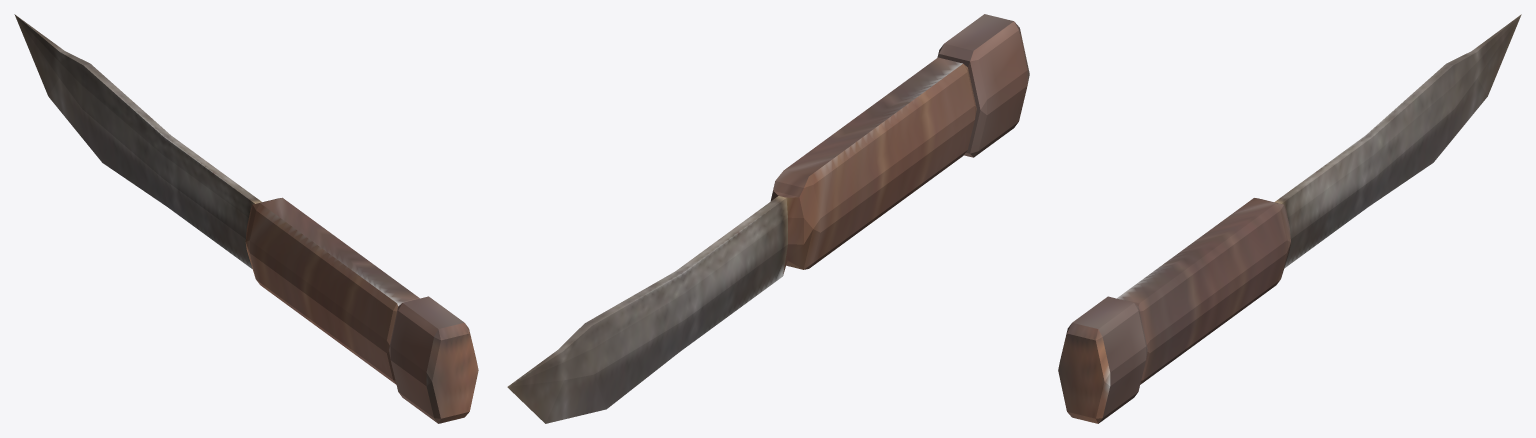
File: knife.glb
3 renders of one model, left to right at view 1: azimuth 30°, elevation 25°; view 2: azimuth 150°, elevation 25°; view 3: azimuth 330°, elevation 25°, orthographic. The views are drawn at different scales.
Visible parts, largest first — view 1: Cube; view 2: Cube; view 3: Cube.
Part boxes in pixels (x1,y1,x2,y2): Cube: [14, 14, 478, 423]; Cube: [507, 14, 1029, 423]; Cube: [1058, 14, 1521, 423].
Bounding box in the file's own units: 1.33 × 2.41 × 20.25.
1 material, 1 textured.
